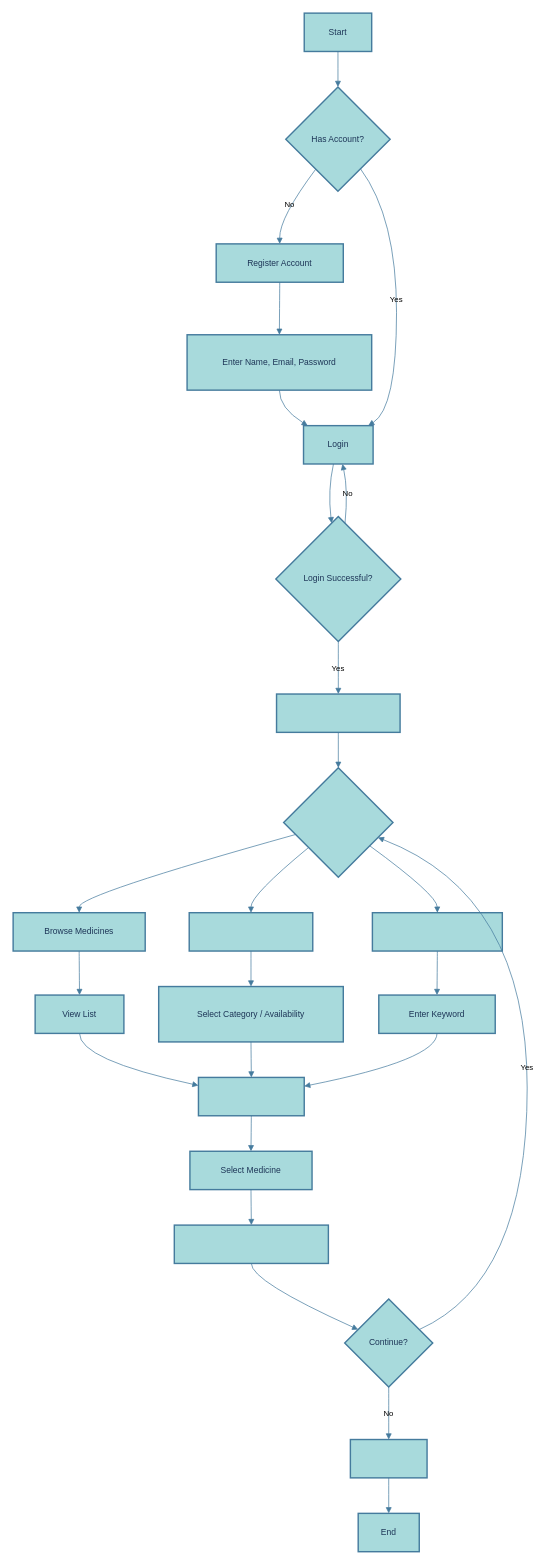
Image size: 546x1564. Some labels were removed from this diagram. Each missing label, with the centre of its shape:
Access Platform: [337,713]
Choose Action: [338,822]
Filter Medicines: [250,931]
Logout: [388,1458]
Search Medicines: [437,931]
View Medicine Details: [251,1244]
View Results: [251,1096]
